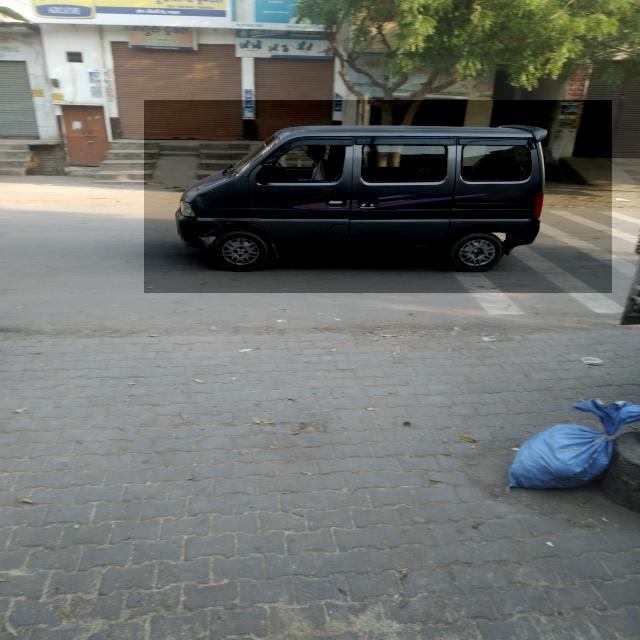Travller: (145, 100, 612, 293)
